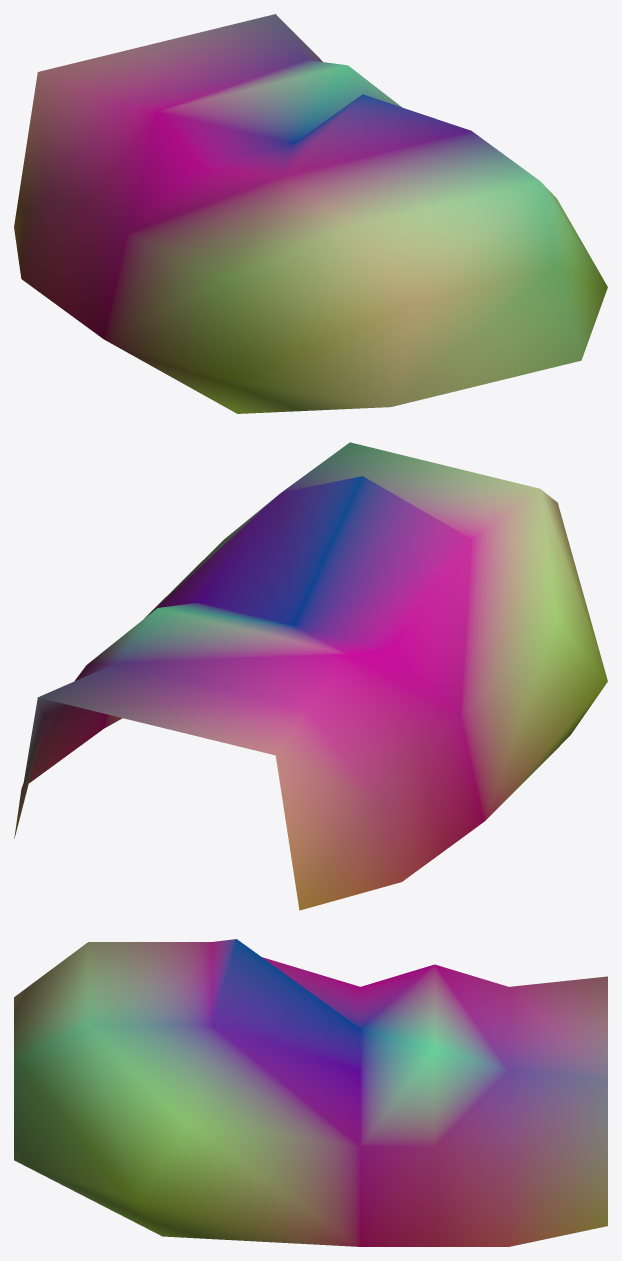
The picture shows the model from 3 angles, top to bottom: view 1: azimuth 30°, elevation 25°; view 2: azimuth 150°, elevation 25°; view 3: azimuth 270°, elevation 25°; orthographic projection. The views are drawn at different scales.
Visible parts, largest first — view 1: part; view 2: part; view 3: part.
Boxes of the visible parts, x1=… form: part: x1=14, y1=14, x2=607, y2=413; part: x1=14, y1=442, x2=607, y2=910; part: x1=14, y1=939, x2=607, y2=1246.
Size of the model in its own units: 16 by 10 by 24.
